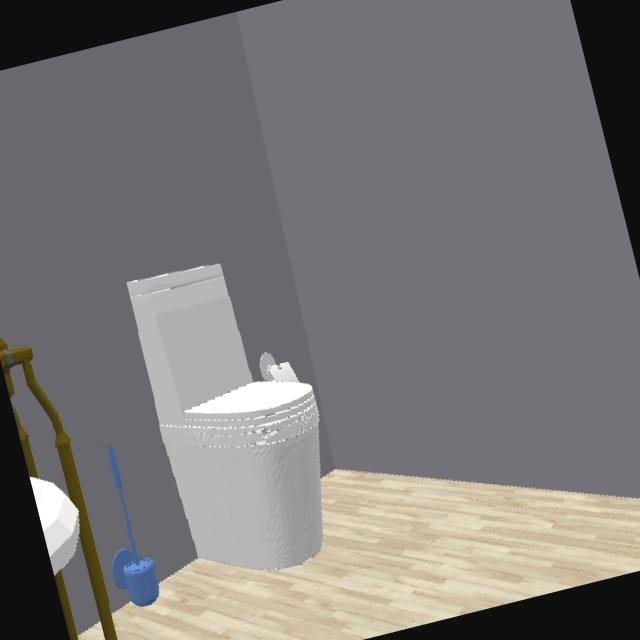bathtube: (29, 477, 81, 578)
toilet: (127, 263, 324, 572)
